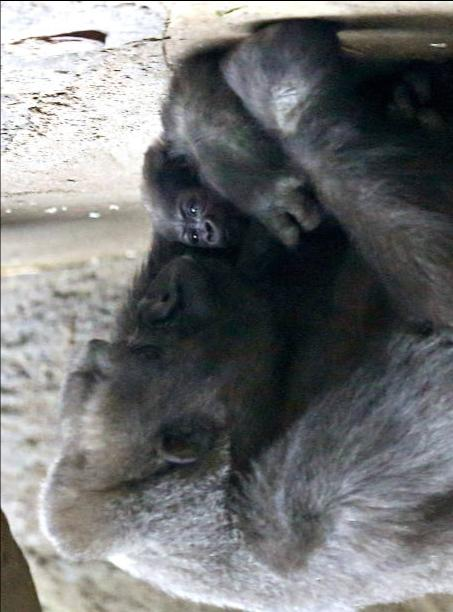gorille_Autres: (41, 42, 445, 612)
